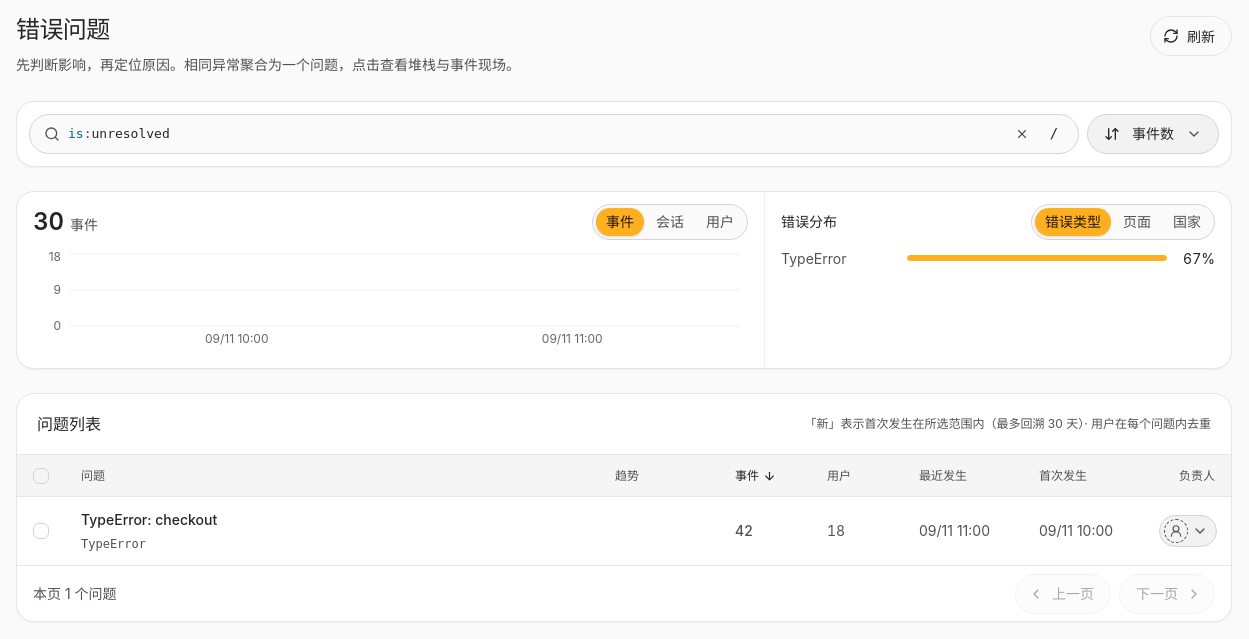
Test: issues page states › renders real overview charts and switches impact and distribution dimensions
The width and height of the screenshot is (1249, 639).
Expected: the element named "错误概览" is shown, [16,191,1232,369]
Expected: the picture named "事件趋势" is shown, [33,248,748,356]
Click the radio button "用户". click: click(720, 222)
box: [696,208,744,236]
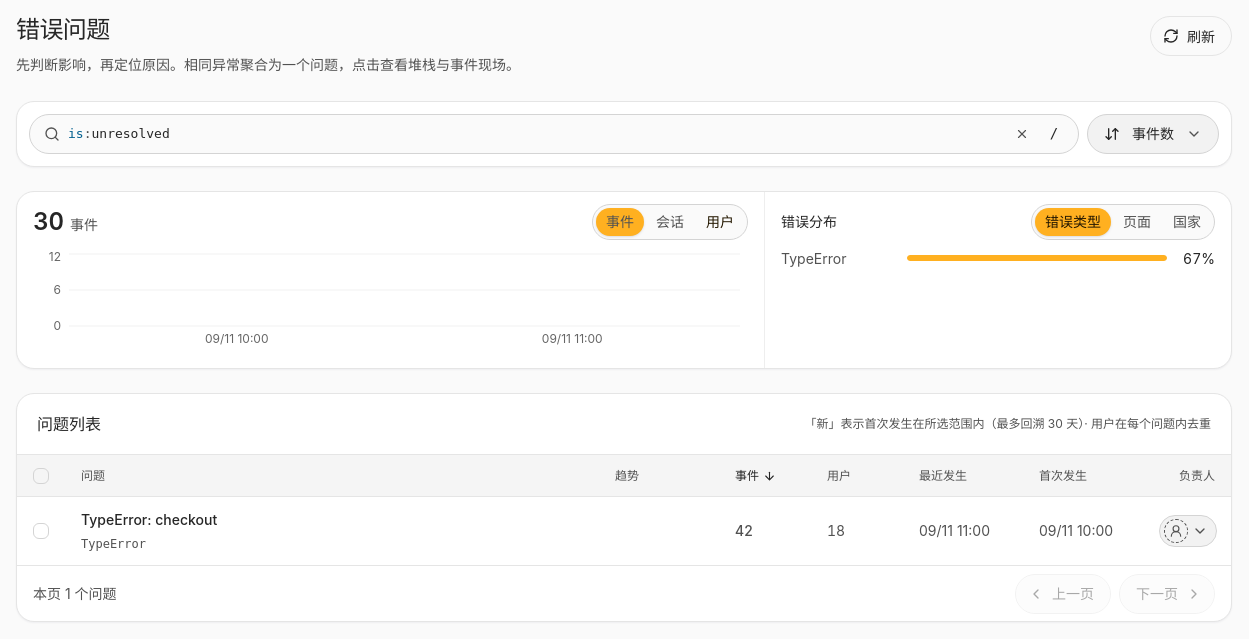
Expected: the picture named "用户趋势" is shown, [33,248,748,356]
Click the radio button "国家". click: click(1187, 222)
box: [1163,208,1211,236]
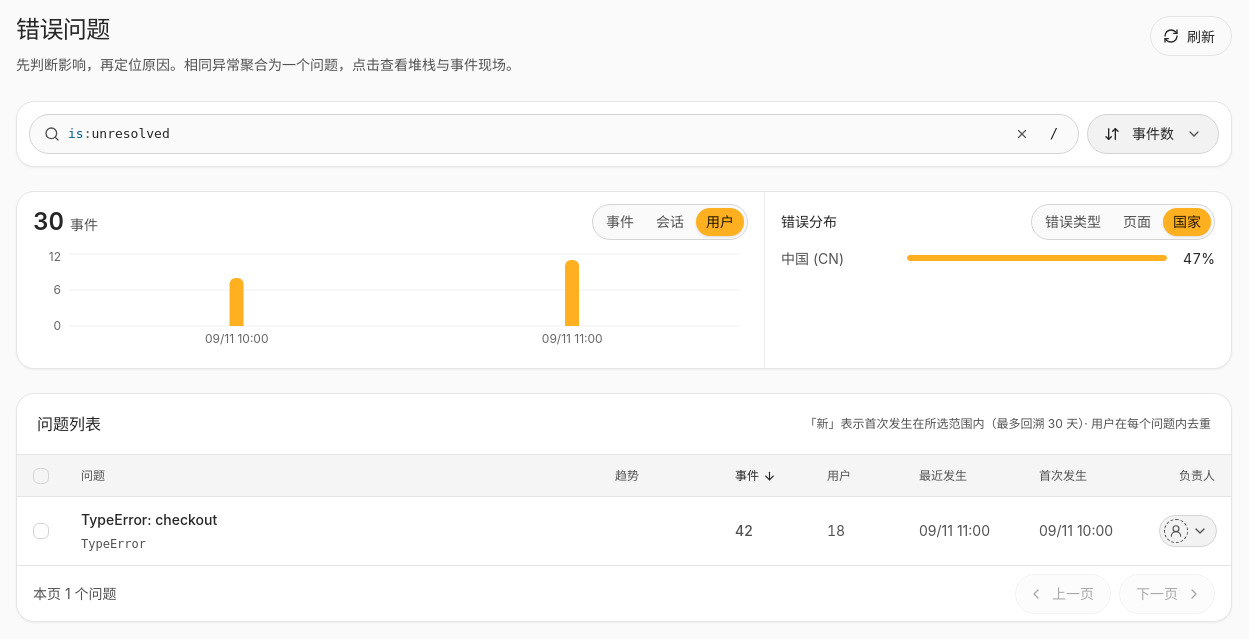
Expected: the list named "按国家的错误占比" is shown, [781,248,1215,269]
